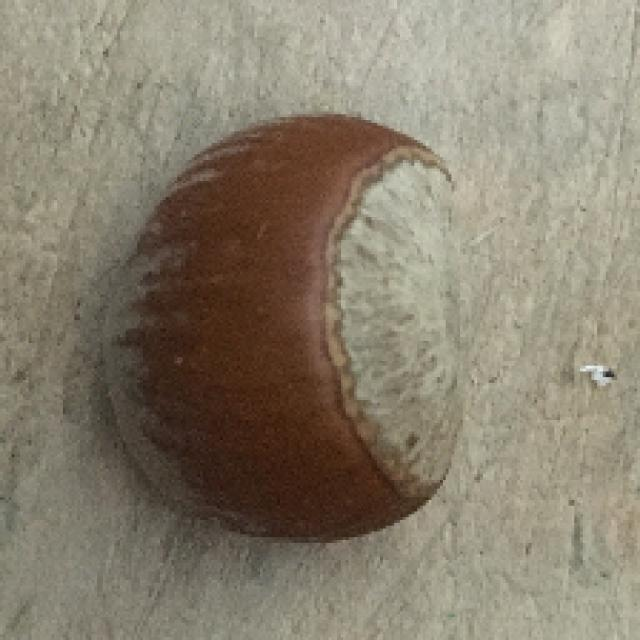QualityHazelnut: (104, 114, 473, 542)
